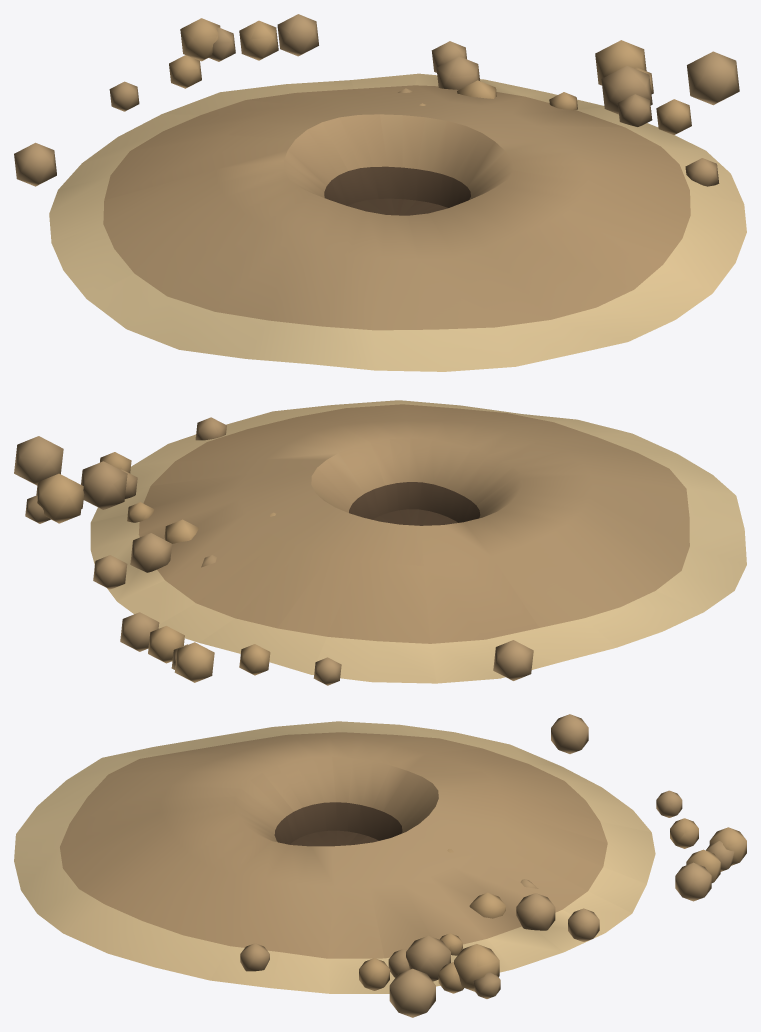
The model's file is shore_gc_crab_burrow.glb.
The picture shows the model from 3 angles, top to bottom: view 1: azimuth 30°, elevation 25°; view 2: azimuth 150°, elevation 25°; view 3: azimuth 270°, elevation 25°; orthographic projection. The views are drawn at different scales.
Parts seen in each view (by area): view 1: shore_gc_crab_burrow; view 2: shore_gc_crab_burrow; view 3: shore_gc_crab_burrow.
Part boxes in pixels (x1,y1,x2,y2): shore_gc_crab_burrow: (14, 14, 746, 371); shore_gc_crab_burrow: (14, 400, 746, 685); shore_gc_crab_burrow: (14, 714, 746, 1017).
Bounding box in the file's own units: 2.94 × 0.2928 × 2.96.
